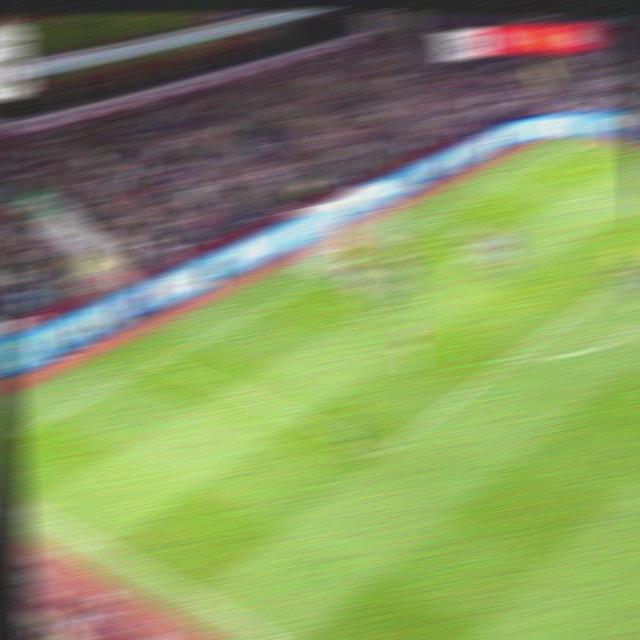bigarea_bottom_inner: (367, 437, 402, 462)
bigarea_bottom_outter: (146, 351, 176, 371)
bigarea_top_outter: (493, 175, 521, 191)
bottom_arc_area_intersection: (496, 347, 527, 369)
corner: (572, 136, 601, 150)
smallarea_bottom_inner: (330, 308, 359, 330)
smallarea_bottom_outter: (267, 292, 296, 308)
smallarea_top_inner: (474, 227, 508, 247)
smallarea_top_outter: (420, 213, 448, 230)
top_arc_area_intersection: (612, 268, 640, 284)
